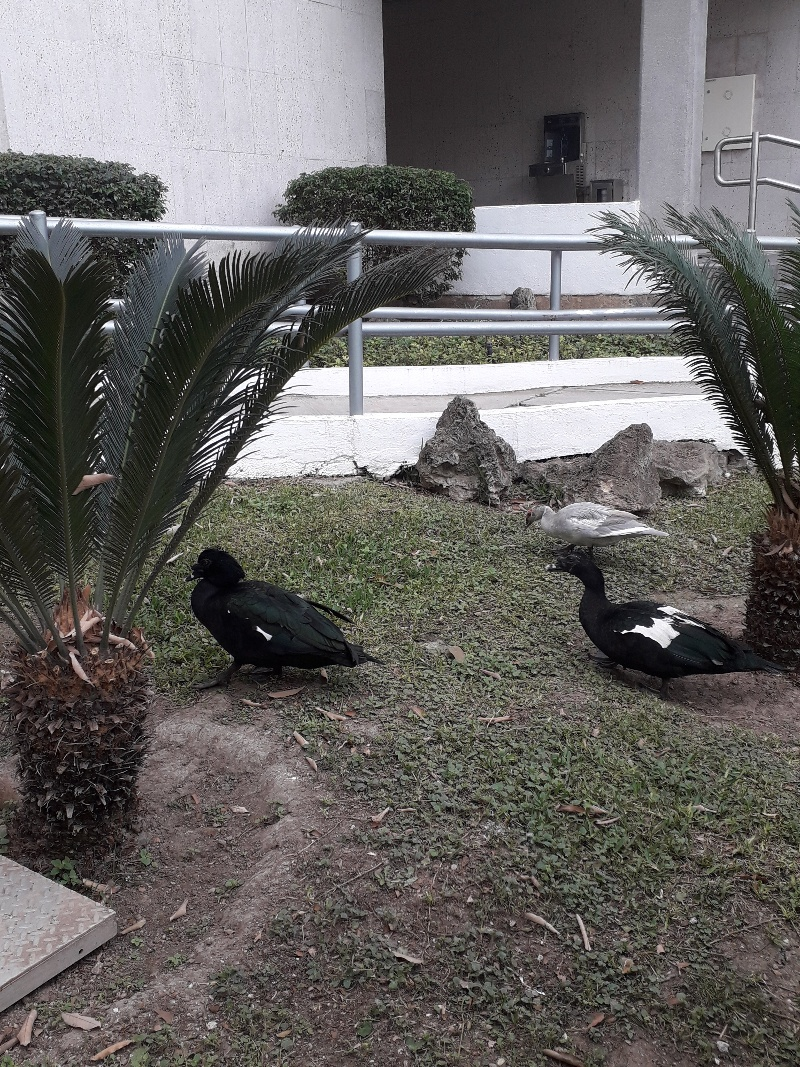pato: (548, 550, 740, 680), (191, 551, 370, 673)
